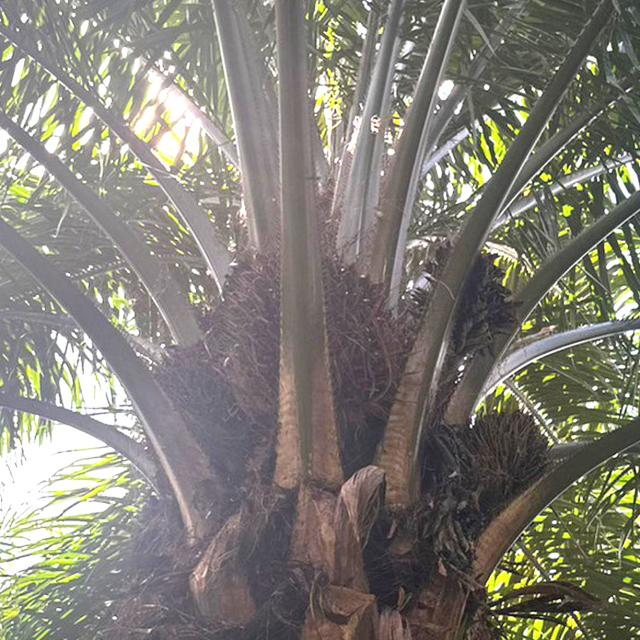ripe: (199, 234, 420, 443)
